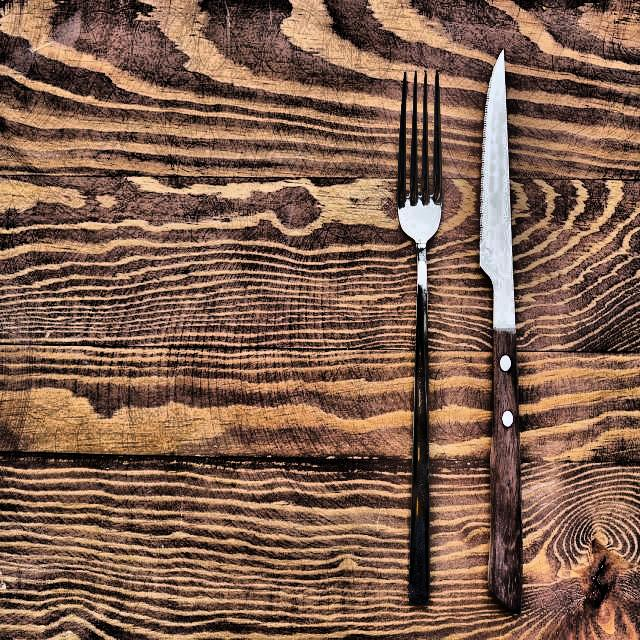knife: (476, 38, 543, 620)
